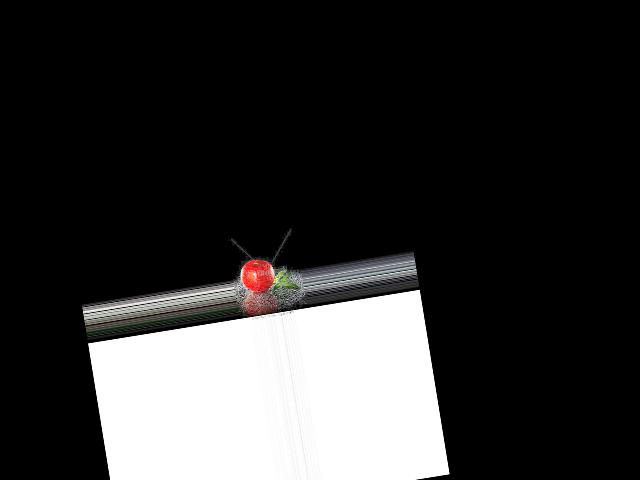tomato: (238, 257, 277, 293)
